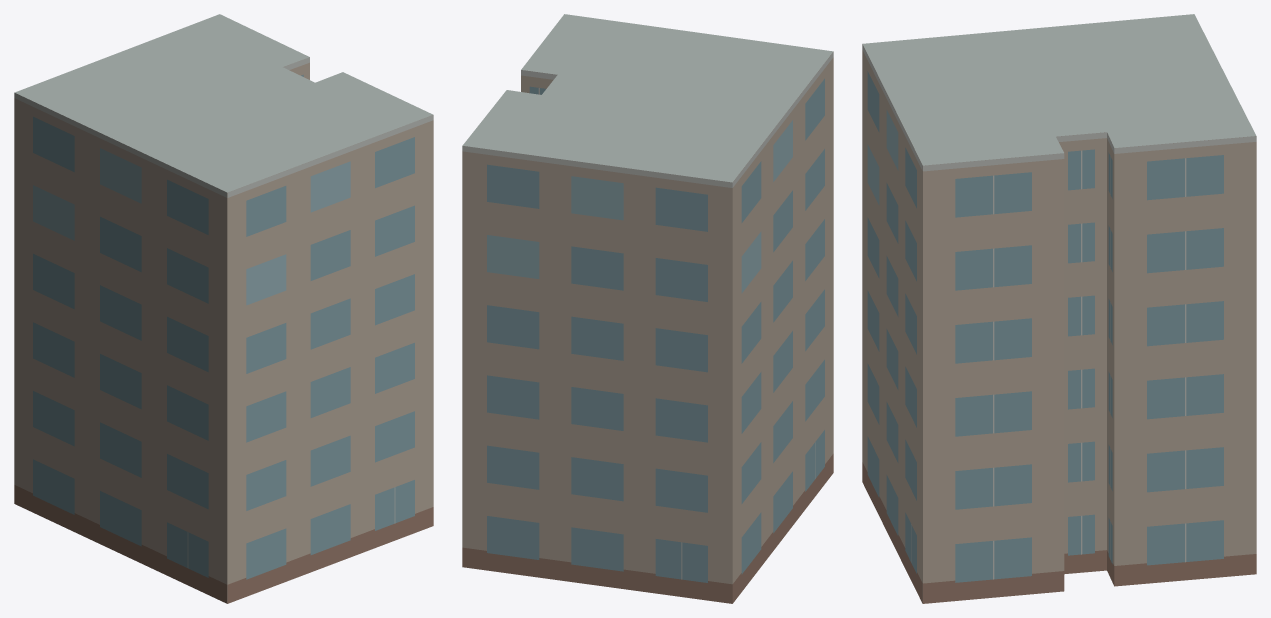
Rendered from survey-upis-32698509.glb.
3 renders of one model, left to right at view 1: azimuth 30°, elevation 25°; view 2: azimuth 150°, elevation 25°; view 3: azimuth 270°, elevation 25°, orthographic. The views are drawn at different scales.
Visible parts, largest first — view 1: survey-upis-32698509.tmp; view 2: survey-upis-32698509.tmp; view 3: survey-upis-32698509.tmp.
Part boxes in pixels (bbox=[...]): survey-upis-32698509.tmp: bbox=[14, 14, 433, 603]; survey-upis-32698509.tmp: bbox=[462, 14, 833, 603]; survey-upis-32698509.tmp: bbox=[862, 14, 1256, 603].
Size of the model in its own units: 13.59 by 18.3 by 14.93.
